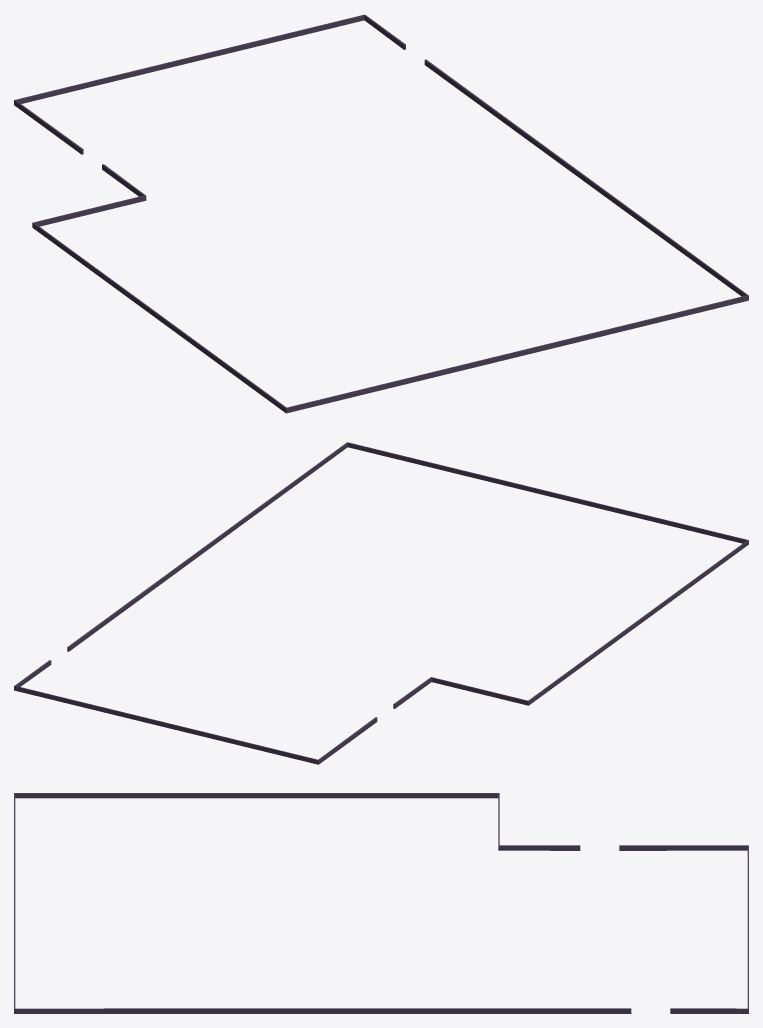
The model's file is SM_GameArea_Wall_02_Line.fbx.
The picture shows the model from 3 angles, top to bottom: view 1: azimuth 30°, elevation 25°; view 2: azimuth 150°, elevation 25°; view 3: azimuth 270°, elevation 25°; orthographic projection. The views are drawn at different scales.
Visible parts, largest first — view 1: SM_GameArea_Wall_02_Line; view 2: SM_GameArea_Wall_02_Line; view 3: SM_GameArea_Wall_02_Line.
Boxes of the visible parts, <box> form: SM_GameArea_Wall_02_Line: <box>14,14,748,413</box>; SM_GameArea_Wall_02_Line: <box>14,442,748,764</box>; SM_GameArea_Wall_02_Line: <box>14,793,748,1013</box>.
Bounding box in the file's own units: 124 × 1.29 × 178.
